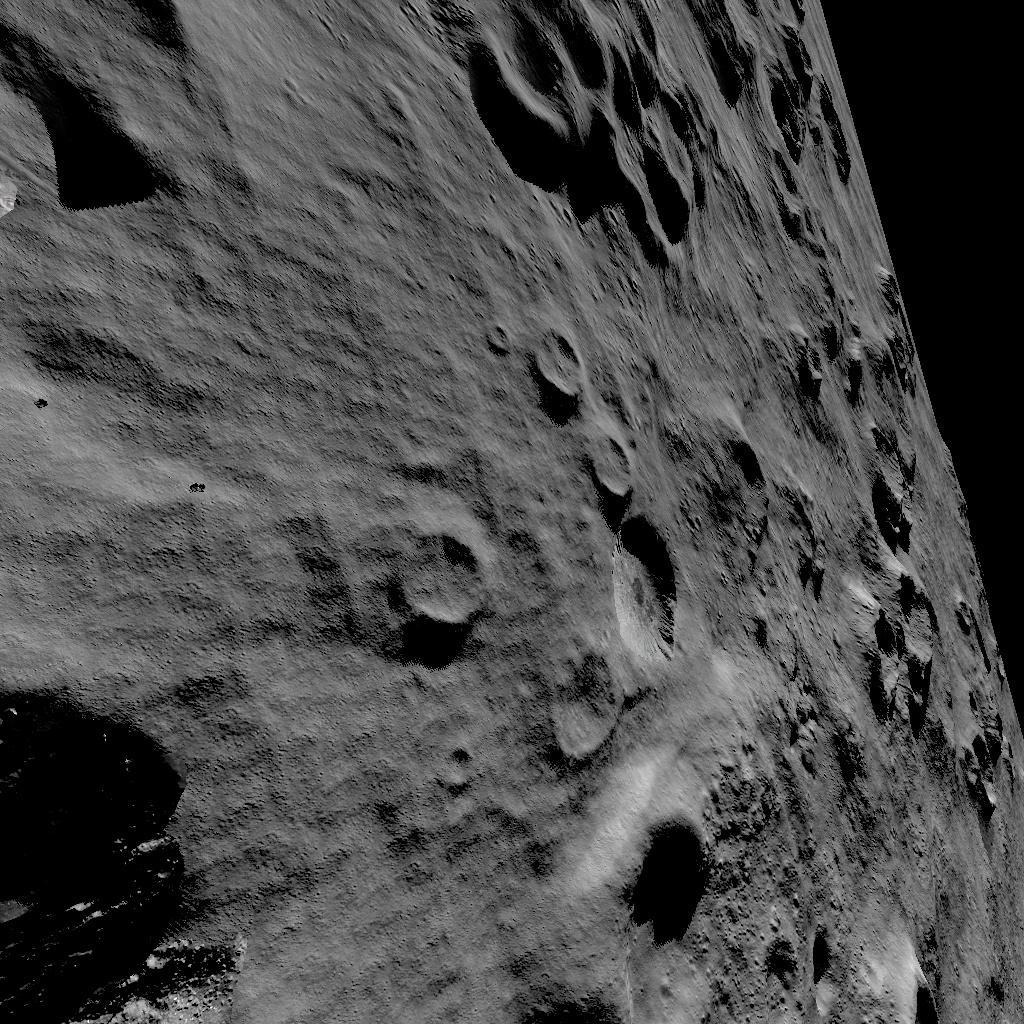Crater: (0, 668, 258, 1024), (435, 0, 701, 246), (3, 0, 199, 230), (851, 564, 1021, 810), (537, 512, 685, 756), (715, 2, 855, 248), (785, 260, 924, 418), (611, 806, 720, 938), (385, 530, 498, 633), (747, 902, 844, 1000), (863, 468, 935, 546), (527, 326, 592, 404), (711, 430, 772, 505), (573, 440, 640, 497), (883, 968, 951, 1024)
Plan surface: (0, 240, 370, 644), (275, 662, 503, 1024), (211, 0, 419, 225)
